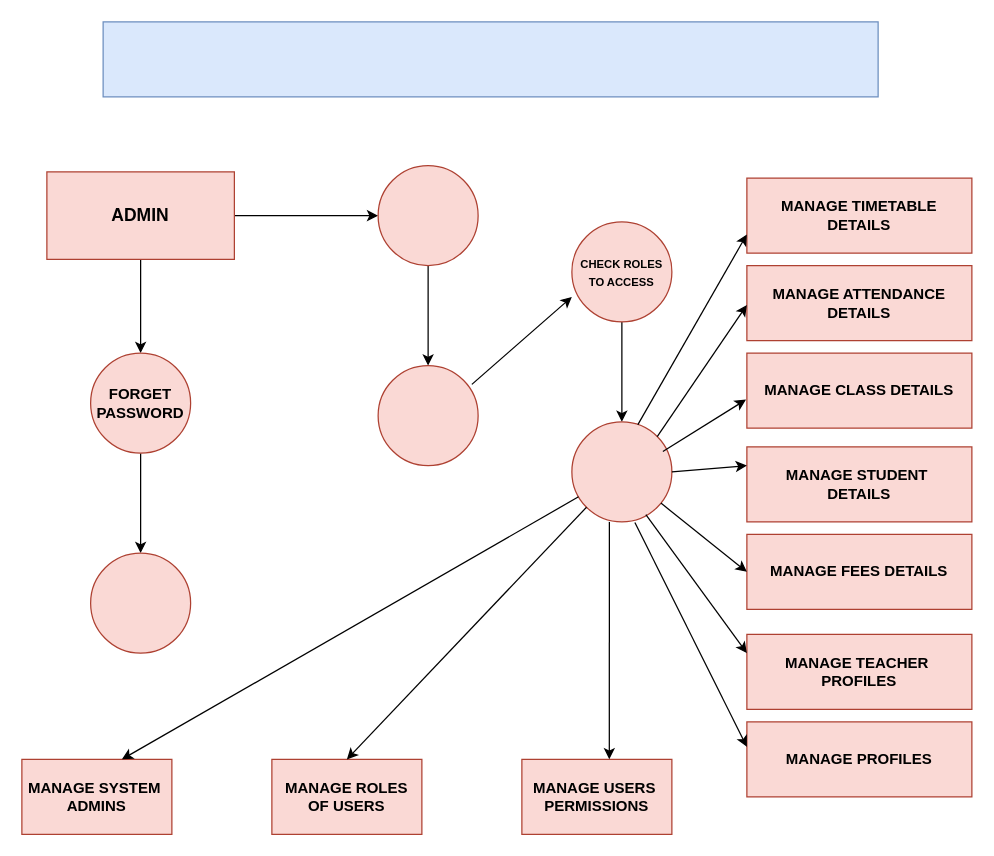
Image size: 994x856. Some labels were removed from this diagram. Here are the shapes that lost their labels. From the top down, the centre of each, then its label:
At (490,59): "STUDENT INFORMATION SYSTEM".
At (427,215): "LOGIN TO SYSTEMS".
At (427,415): "CHECK CREDENTIALS".
At (621,471): "MANAGE MODULES".
At (140,602): "SEND EMAIL TO USER".
